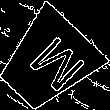M_SW: (14, 28, 82, 96)
